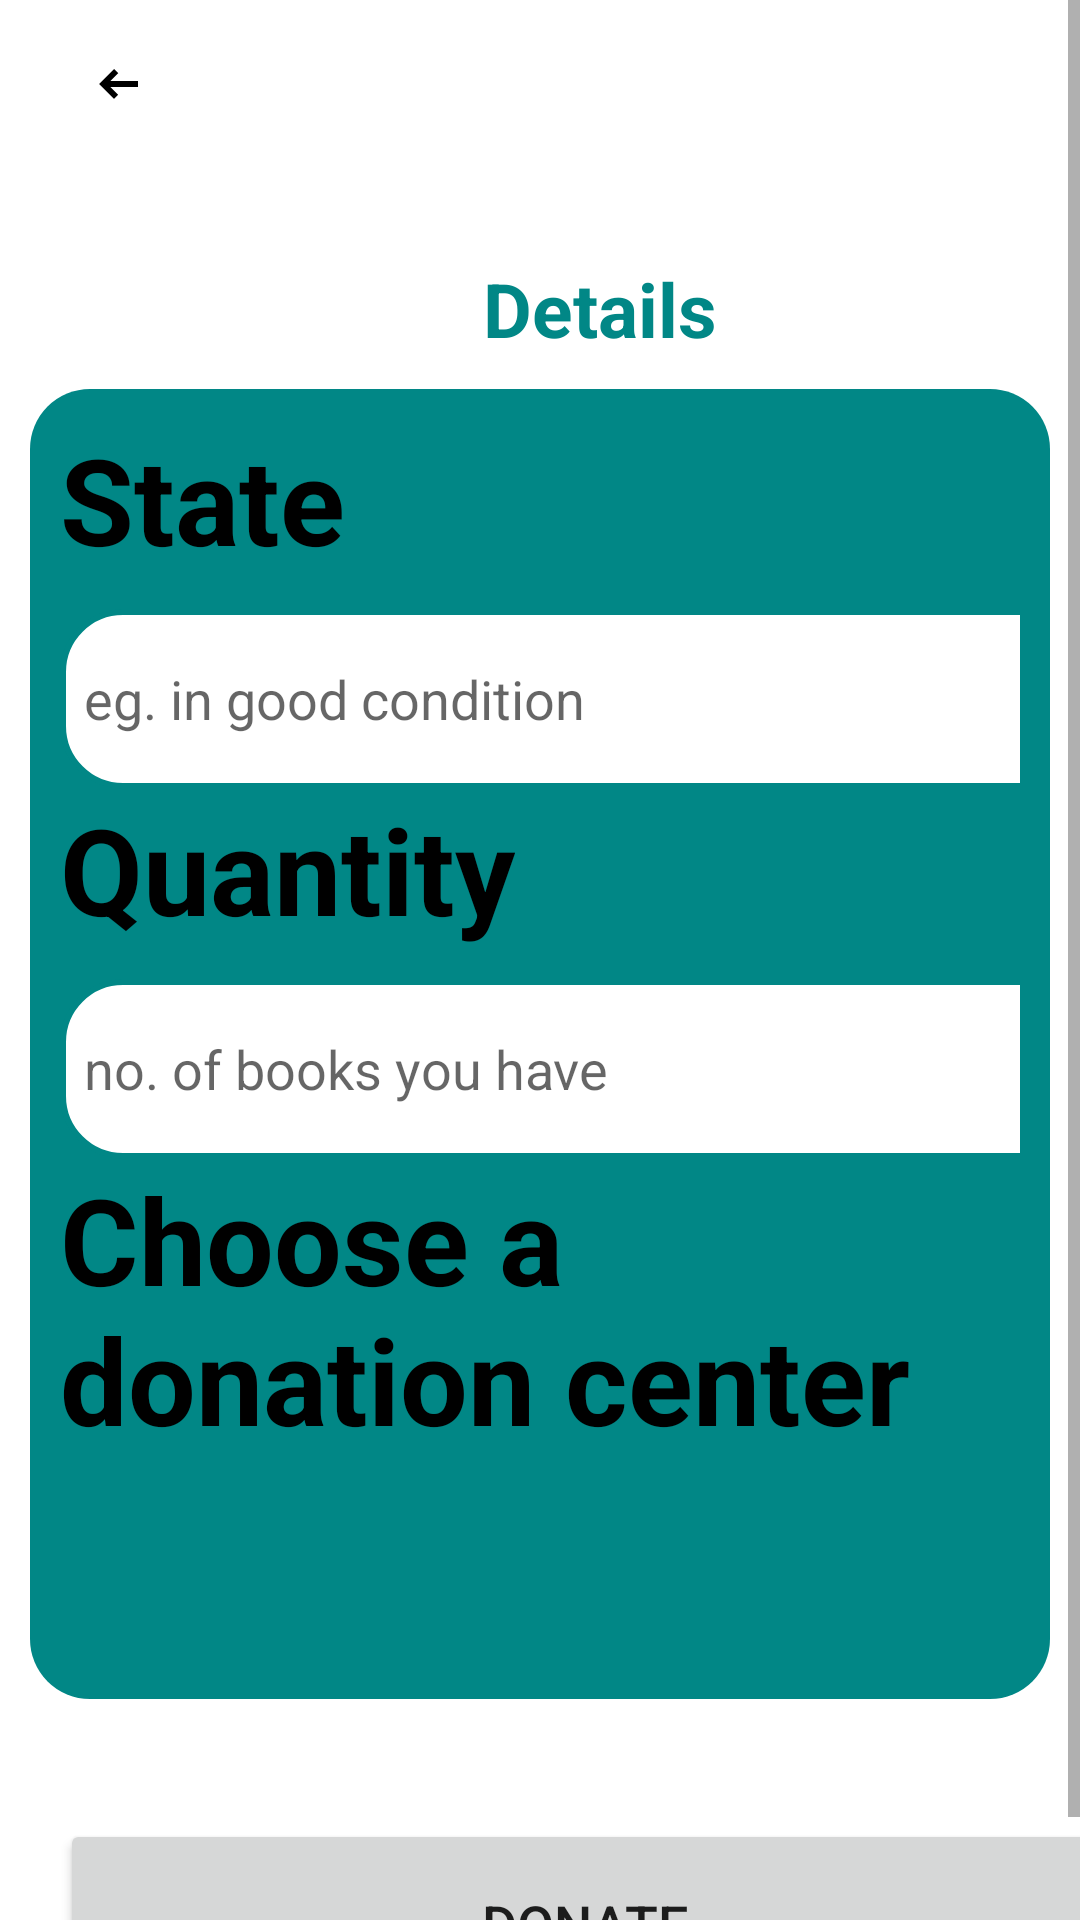

Where icons sit on this 1080px x 1920px app screen, as (x1, y1, x2, y2):
prevoiusact: (99, 69, 138, 99)
